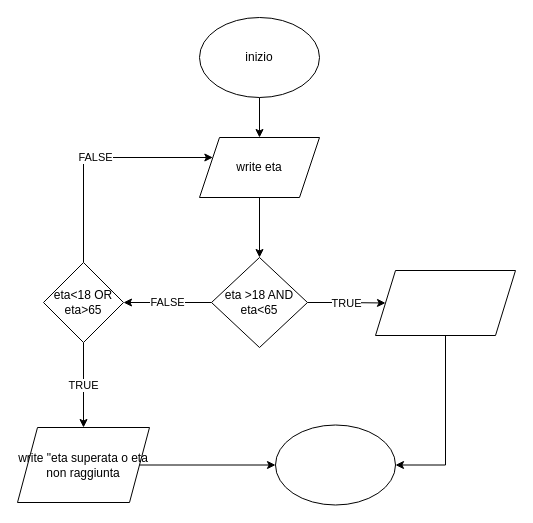
Some shapes in this 533 by 523 pixel diagram are drawn without their labels. The shapes that lost their labels are listed below. From the top down, each one's centre as x and y in pixels, then its label:
point 445,303: write "L'utente può partecipare all'attivita'"
point 335,464: fine
